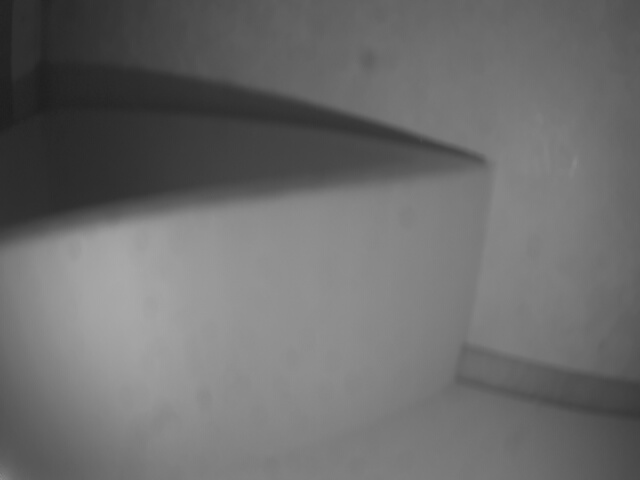Point: (2, 162, 494, 478)
